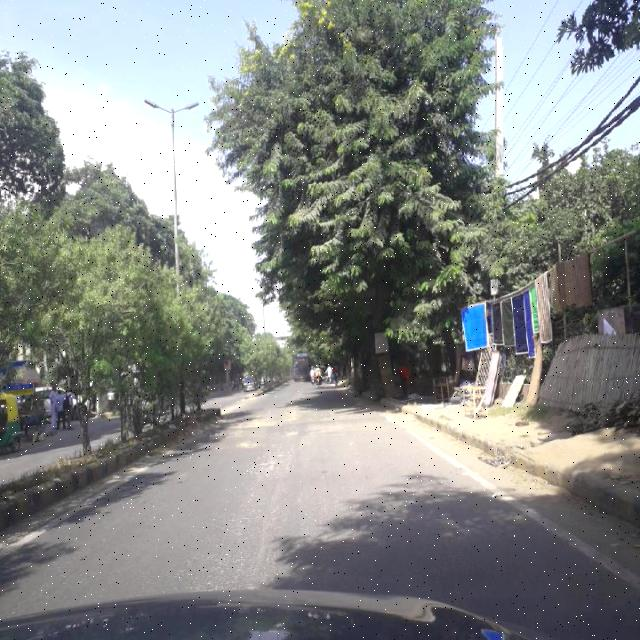D20: (201, 513, 280, 585), (244, 432, 292, 492)
